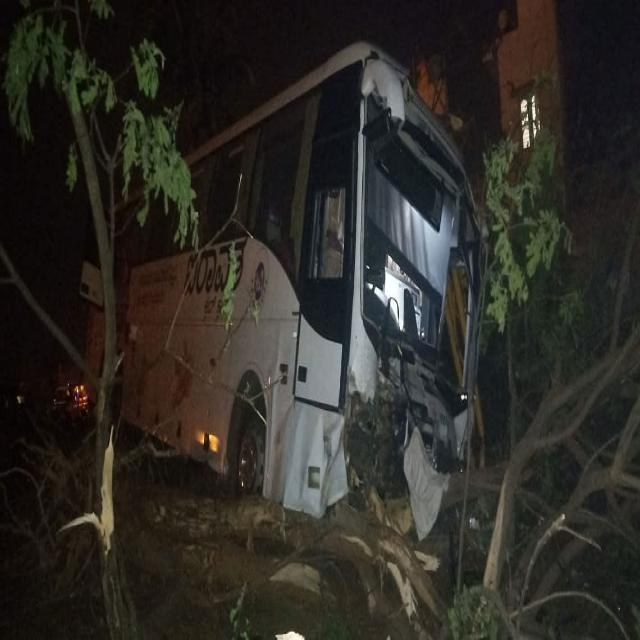accident: (120, 42, 481, 516)
